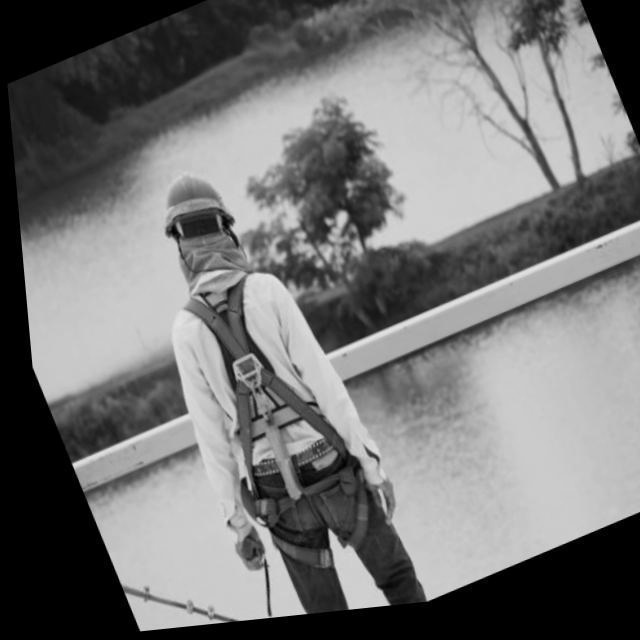safety belt: (179, 276, 410, 575)
